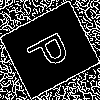P: (24, 25, 79, 75)
